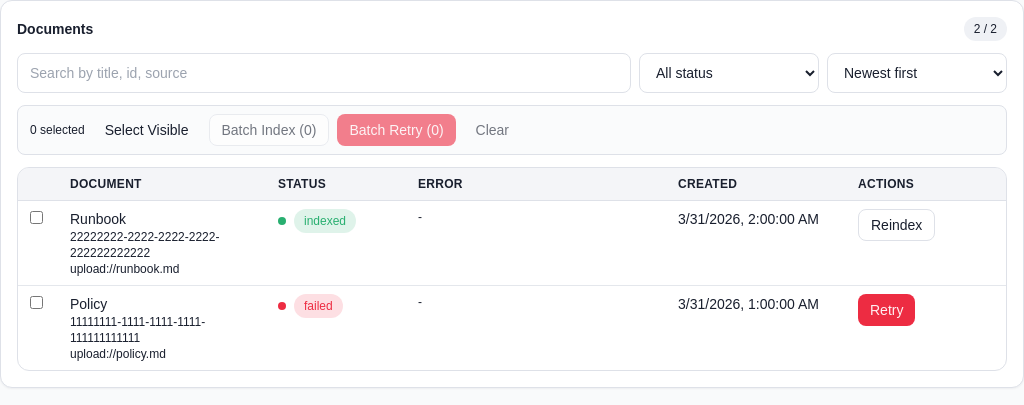
Scenario: DocumentTable › filters by search keyword
The image size is (1024, 405).
Type "Runbook" into the field with test id "document-search-input" at coordinates (324, 73), box [17,53,631,93]
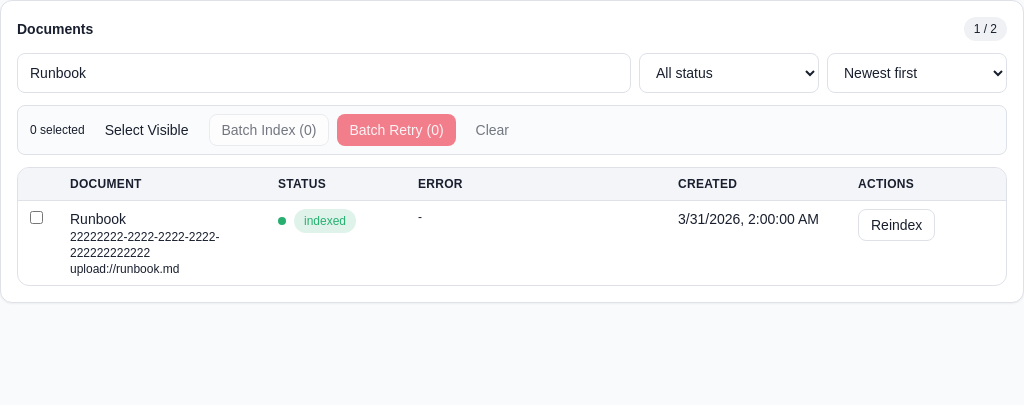
expect the text "Runbook" is shown: met, box [70,211,126,227]
expect the text "Policy" is gone: met
